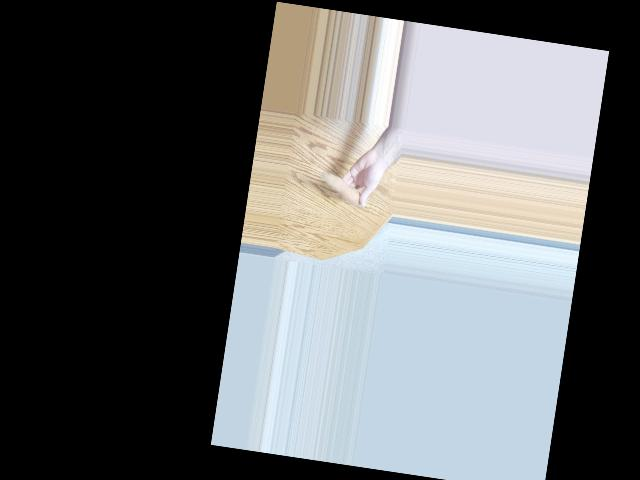sweet_potato: (316, 166, 372, 209)
